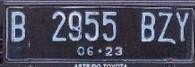2: (51, 11, 68, 42)
5: (100, 10, 120, 42), (84, 10, 100, 42)
9: (68, 11, 84, 42)
B: (139, 9, 156, 44), (9, 10, 27, 42)
Y: (175, 10, 190, 42)
Z: (156, 12, 176, 46)
